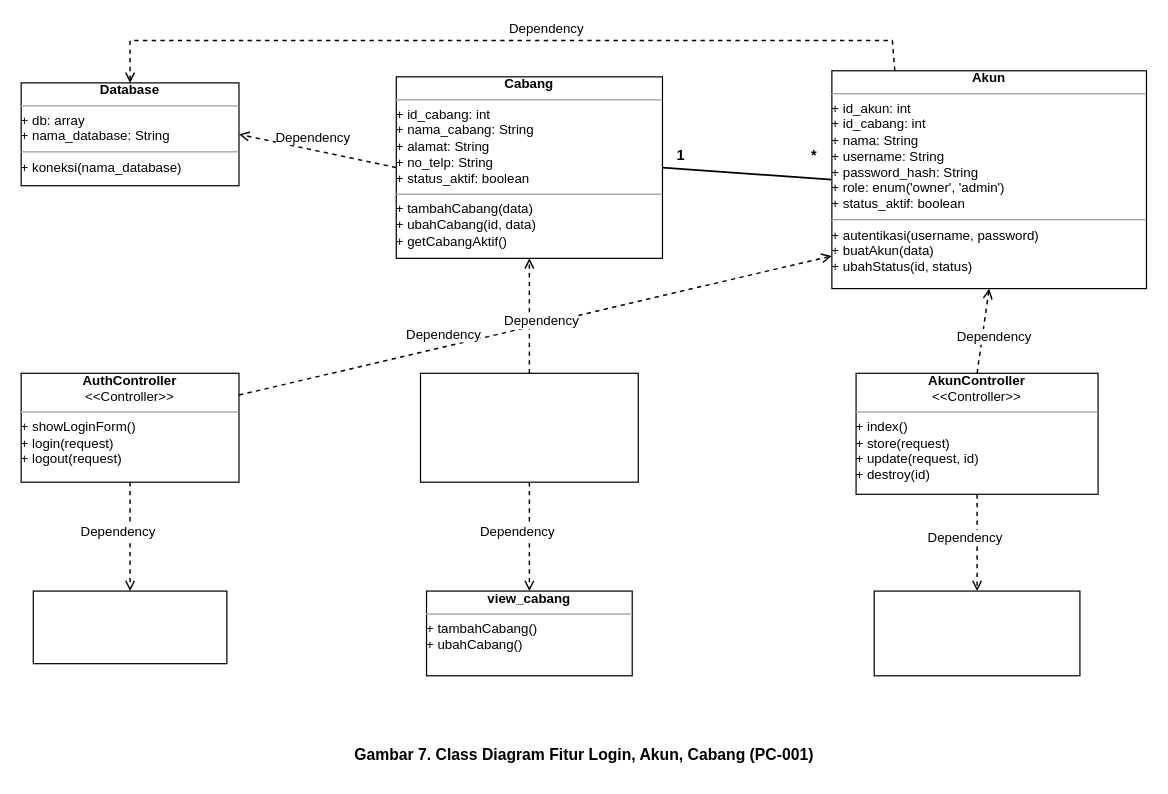
This 1168x794 diagram has some shape labels left out. Each missing label, with the box of its shape:
CabangController <<Controller>> + index() + store(request) + update(request, id): (419, 372, 638, 482)
view_akun + tambahAkun() + ubahStatusAkun(): (873, 590, 1080, 676)
view_login + submitLogin(): (32, 590, 227, 664)
